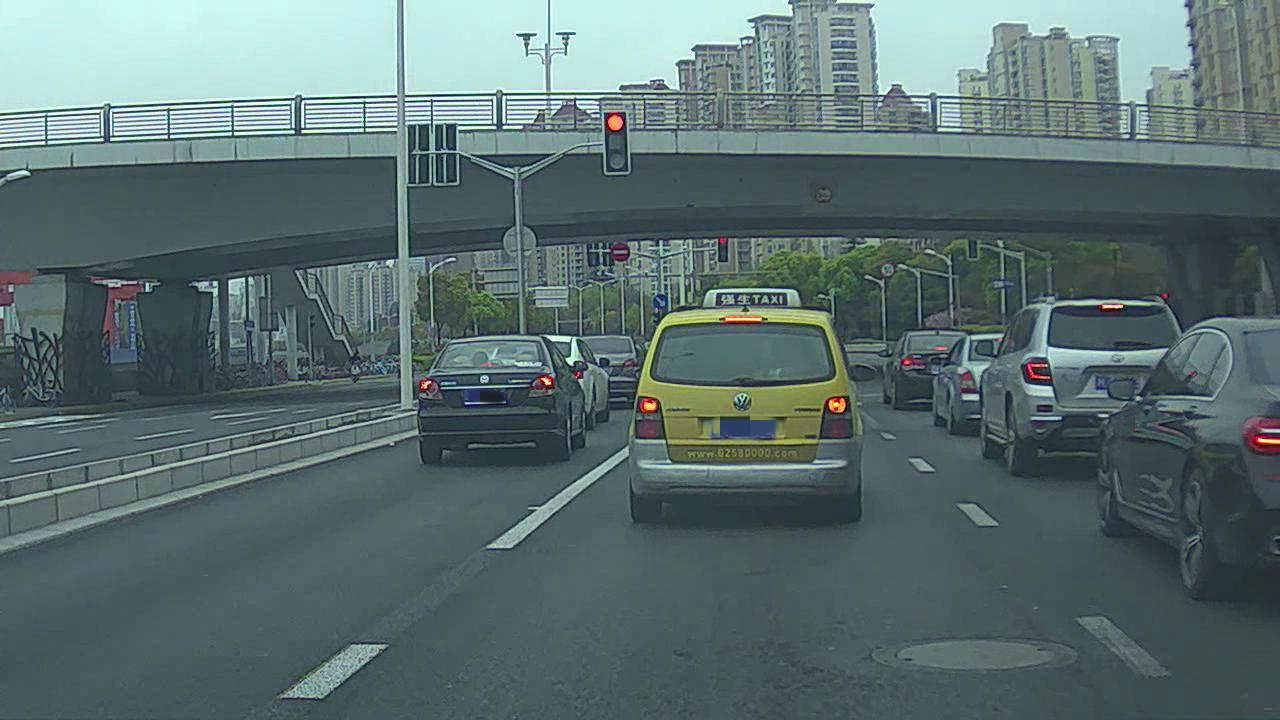traffic_light: (602, 111, 632, 179)
